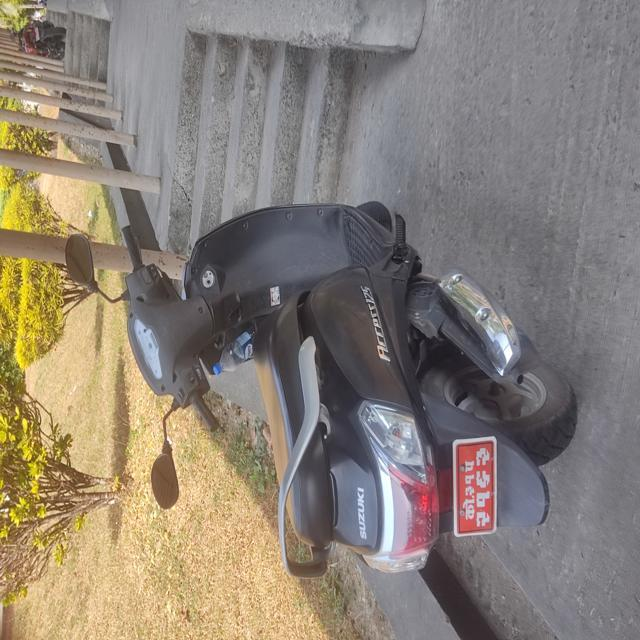license_plate: (418, 430, 513, 544)
